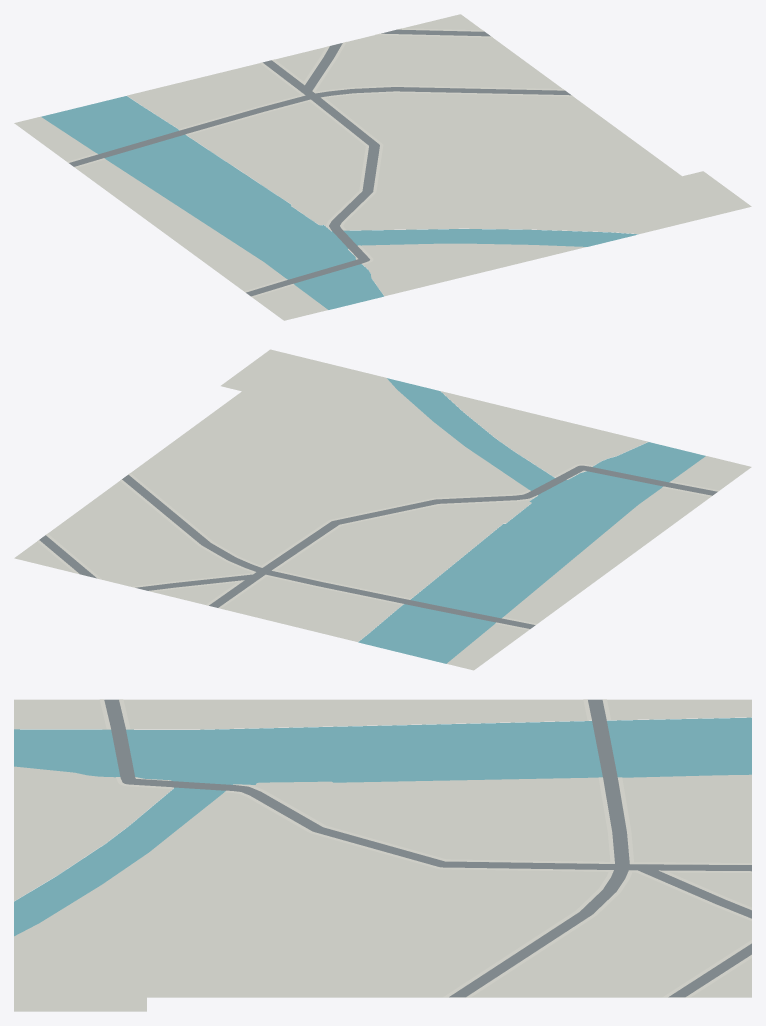
3 views of the same model, one above another, from view 1: azimuth 30°, elevation 25°; view 2: azimuth 150°, elevation 25°; view 3: azimuth 270°, elevation 25° (orthographic). The views are drawn at different scales.
Visible parts, largest first — view 1: city; view 2: city; view 3: city.
Part boxes in pixels (x1,y1,x2,y2): city: (14, 14, 751, 320); city: (14, 349, 751, 670); city: (14, 699, 751, 1011).
Size of the model in its own units: 500 by 0.4 by 500.
